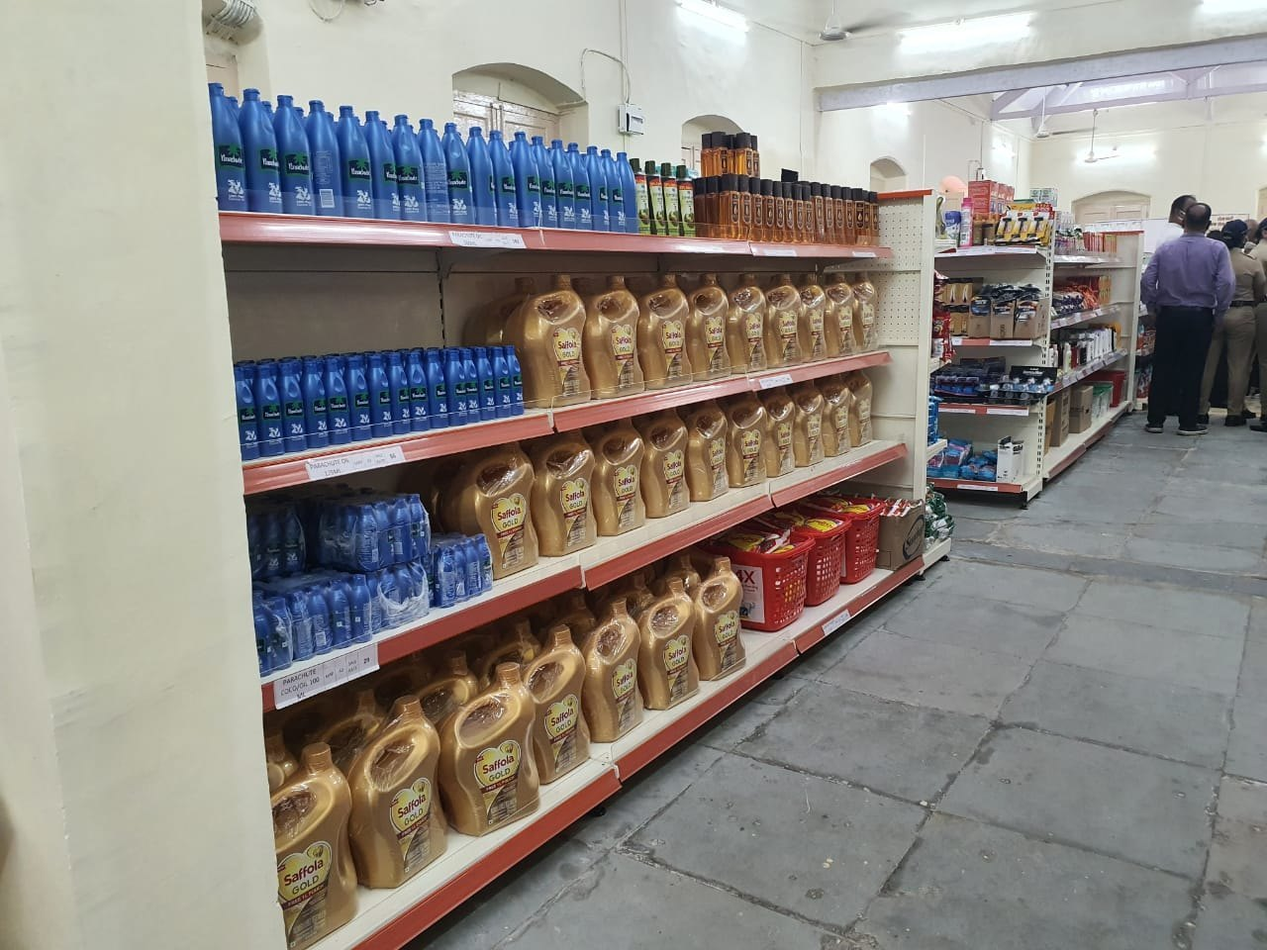parachute: (219, 87, 636, 257), (226, 456, 506, 674), (234, 344, 532, 485)
saffola: (208, 493, 788, 950), (403, 225, 906, 589)
